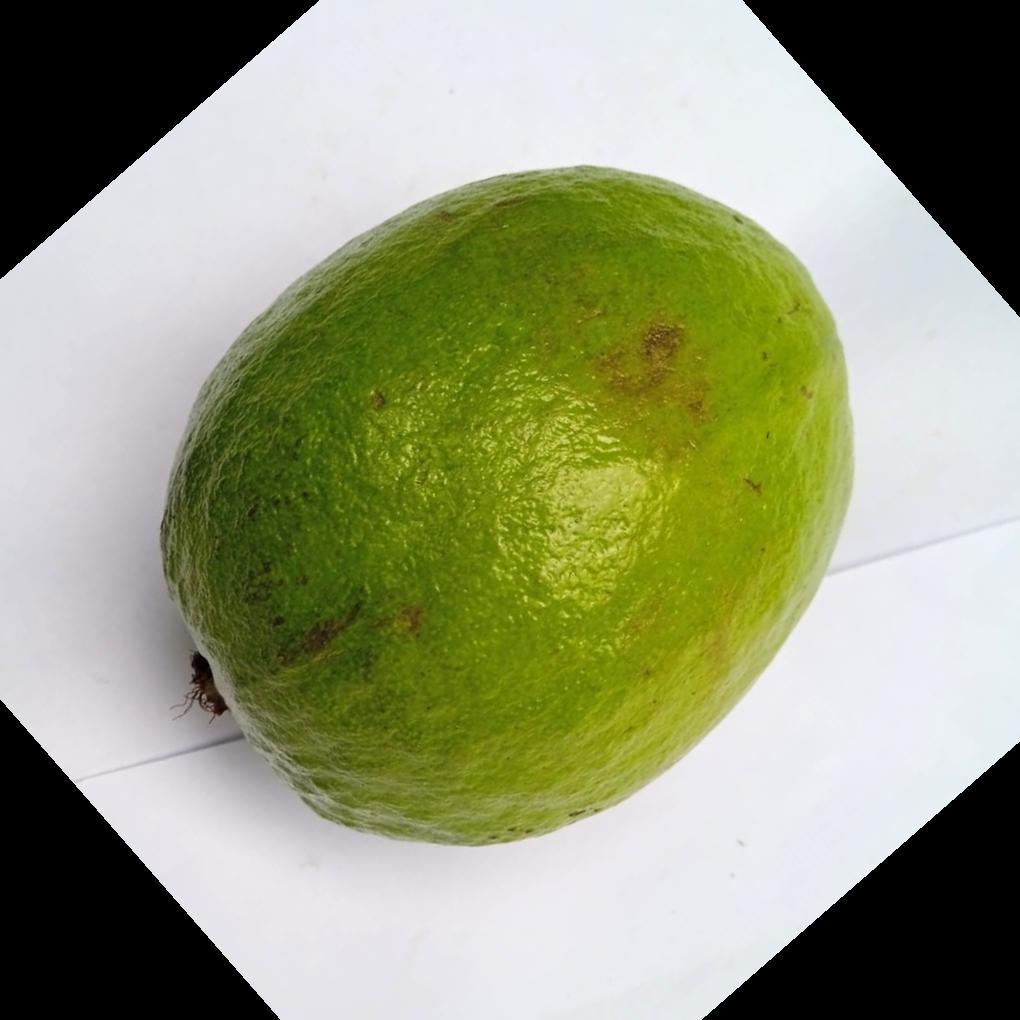FreshGuava: (157, 166, 857, 852)
